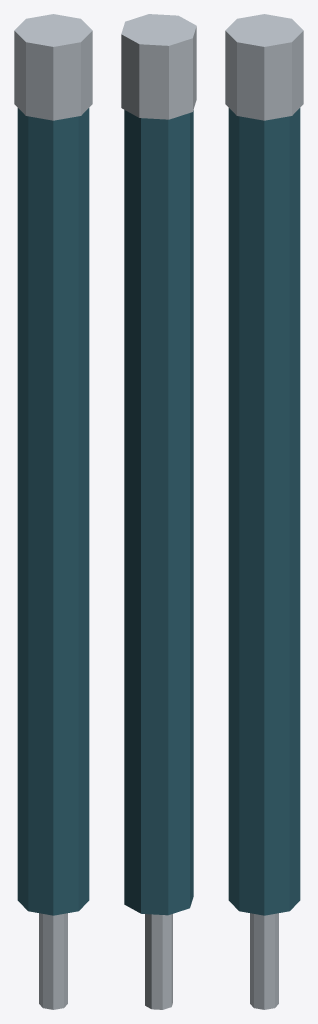
File: pen.glb
3 views of the same model, side by side, from view 1: azimuth 90°, elevation 25°; view 2: azimuth 150°, elevation 25°; view 3: azimuth 270°, elevation 25° (orthographic).
Parts seen in each view (by area): view 1: Prop_pen; view 2: Prop_pen; view 3: Prop_pen.
Boxes of the visible parts, bbox=[...] form: Prop_pen: bbox=[14, 14, 92, 1009]; Prop_pen: bbox=[121, 14, 196, 1009]; Prop_pen: bbox=[225, 14, 303, 1009].
Bounding box in the file's own units: 0.0048 × 0.066 × 0.0048.
